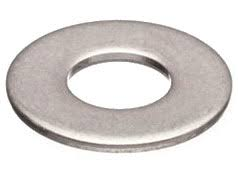No thread: (58, 48, 180, 118)
